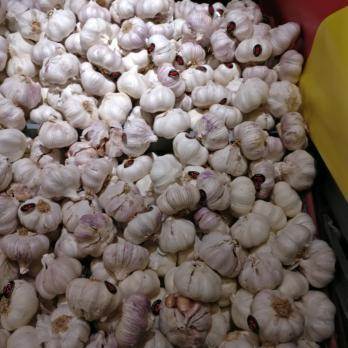Garlic: (2, 0, 274, 348), (266, 19, 335, 348)
